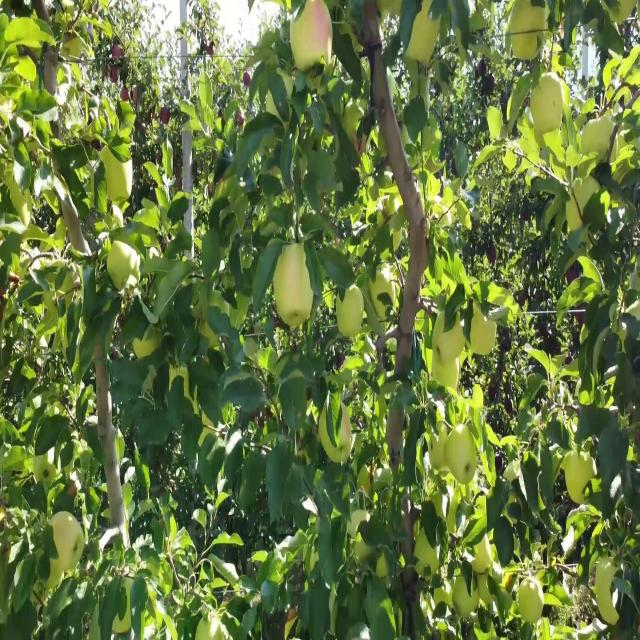apple: (272, 248, 315, 329), (292, 0, 333, 75), (532, 78, 571, 137), (408, 7, 440, 69), (320, 407, 351, 464), (336, 284, 366, 341), (108, 241, 139, 292), (372, 270, 399, 320), (472, 305, 497, 356), (442, 312, 467, 359), (132, 327, 163, 363), (512, 7, 548, 34), (472, 540, 496, 576), (344, 99, 364, 140), (512, 35, 540, 64), (568, 199, 585, 235), (600, 597, 620, 626), (552, 49, 566, 78), (116, 611, 132, 636), (284, 611, 298, 638), (376, 554, 388, 581), (352, 334, 365, 356), (112, 42, 124, 64), (160, 106, 172, 128), (68, 476, 79, 500), (364, 7, 377, 27), (504, 568, 513, 590), (120, 85, 131, 103), (112, 63, 120, 85), (260, 348, 268, 370)
